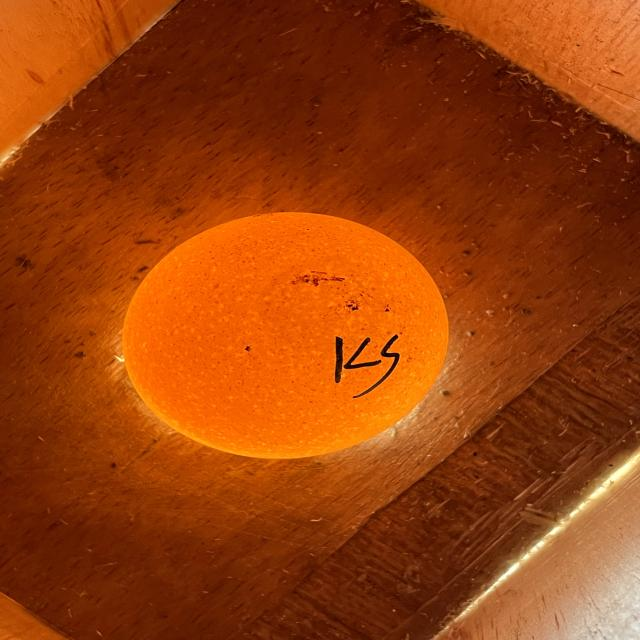infertile: (123, 212, 448, 459)
